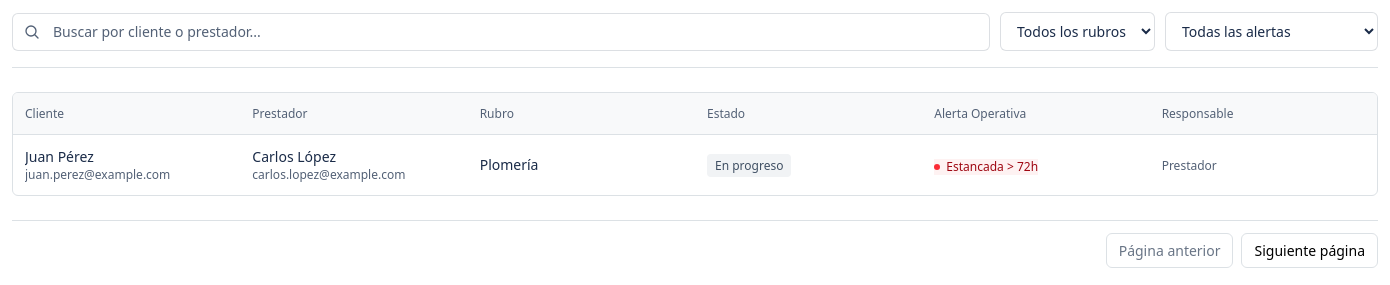
Test: navigates cursor pages and resets pagination after a category change
This screenshot has width=1390, height=285.
Click the button "Siguiente página" at x=1310, y=251, box [1242,233,1378,268]
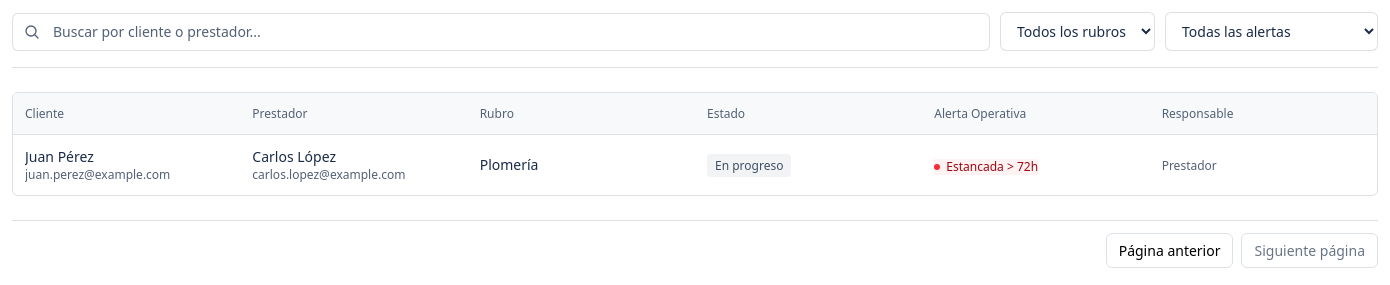
Select "Electricidad" in the dropdown named "Rubro" at x=1078, y=32, box [1000,12,1155,51]
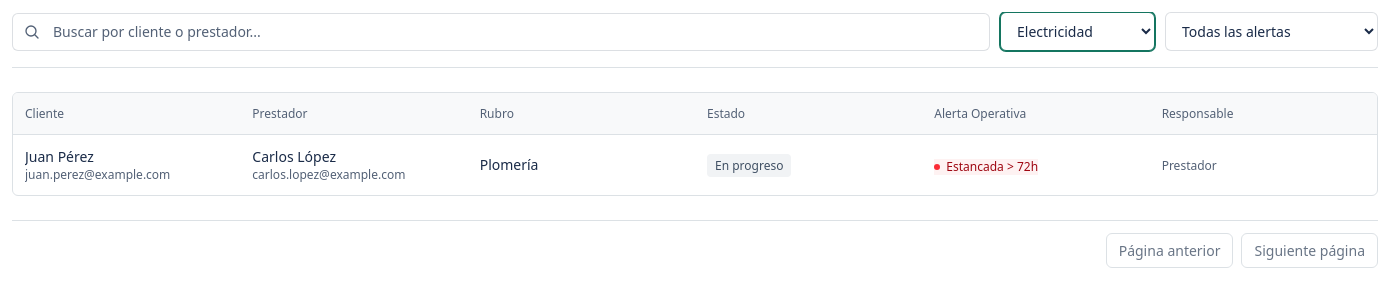
Expected: the button "Página anterior" is disabled, [1106,233,1234,268]
